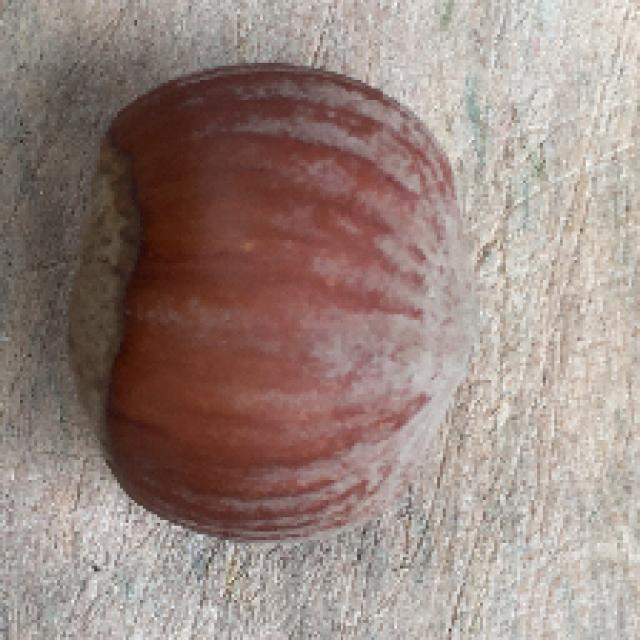qualityHazelnut: (70, 59, 481, 544)
